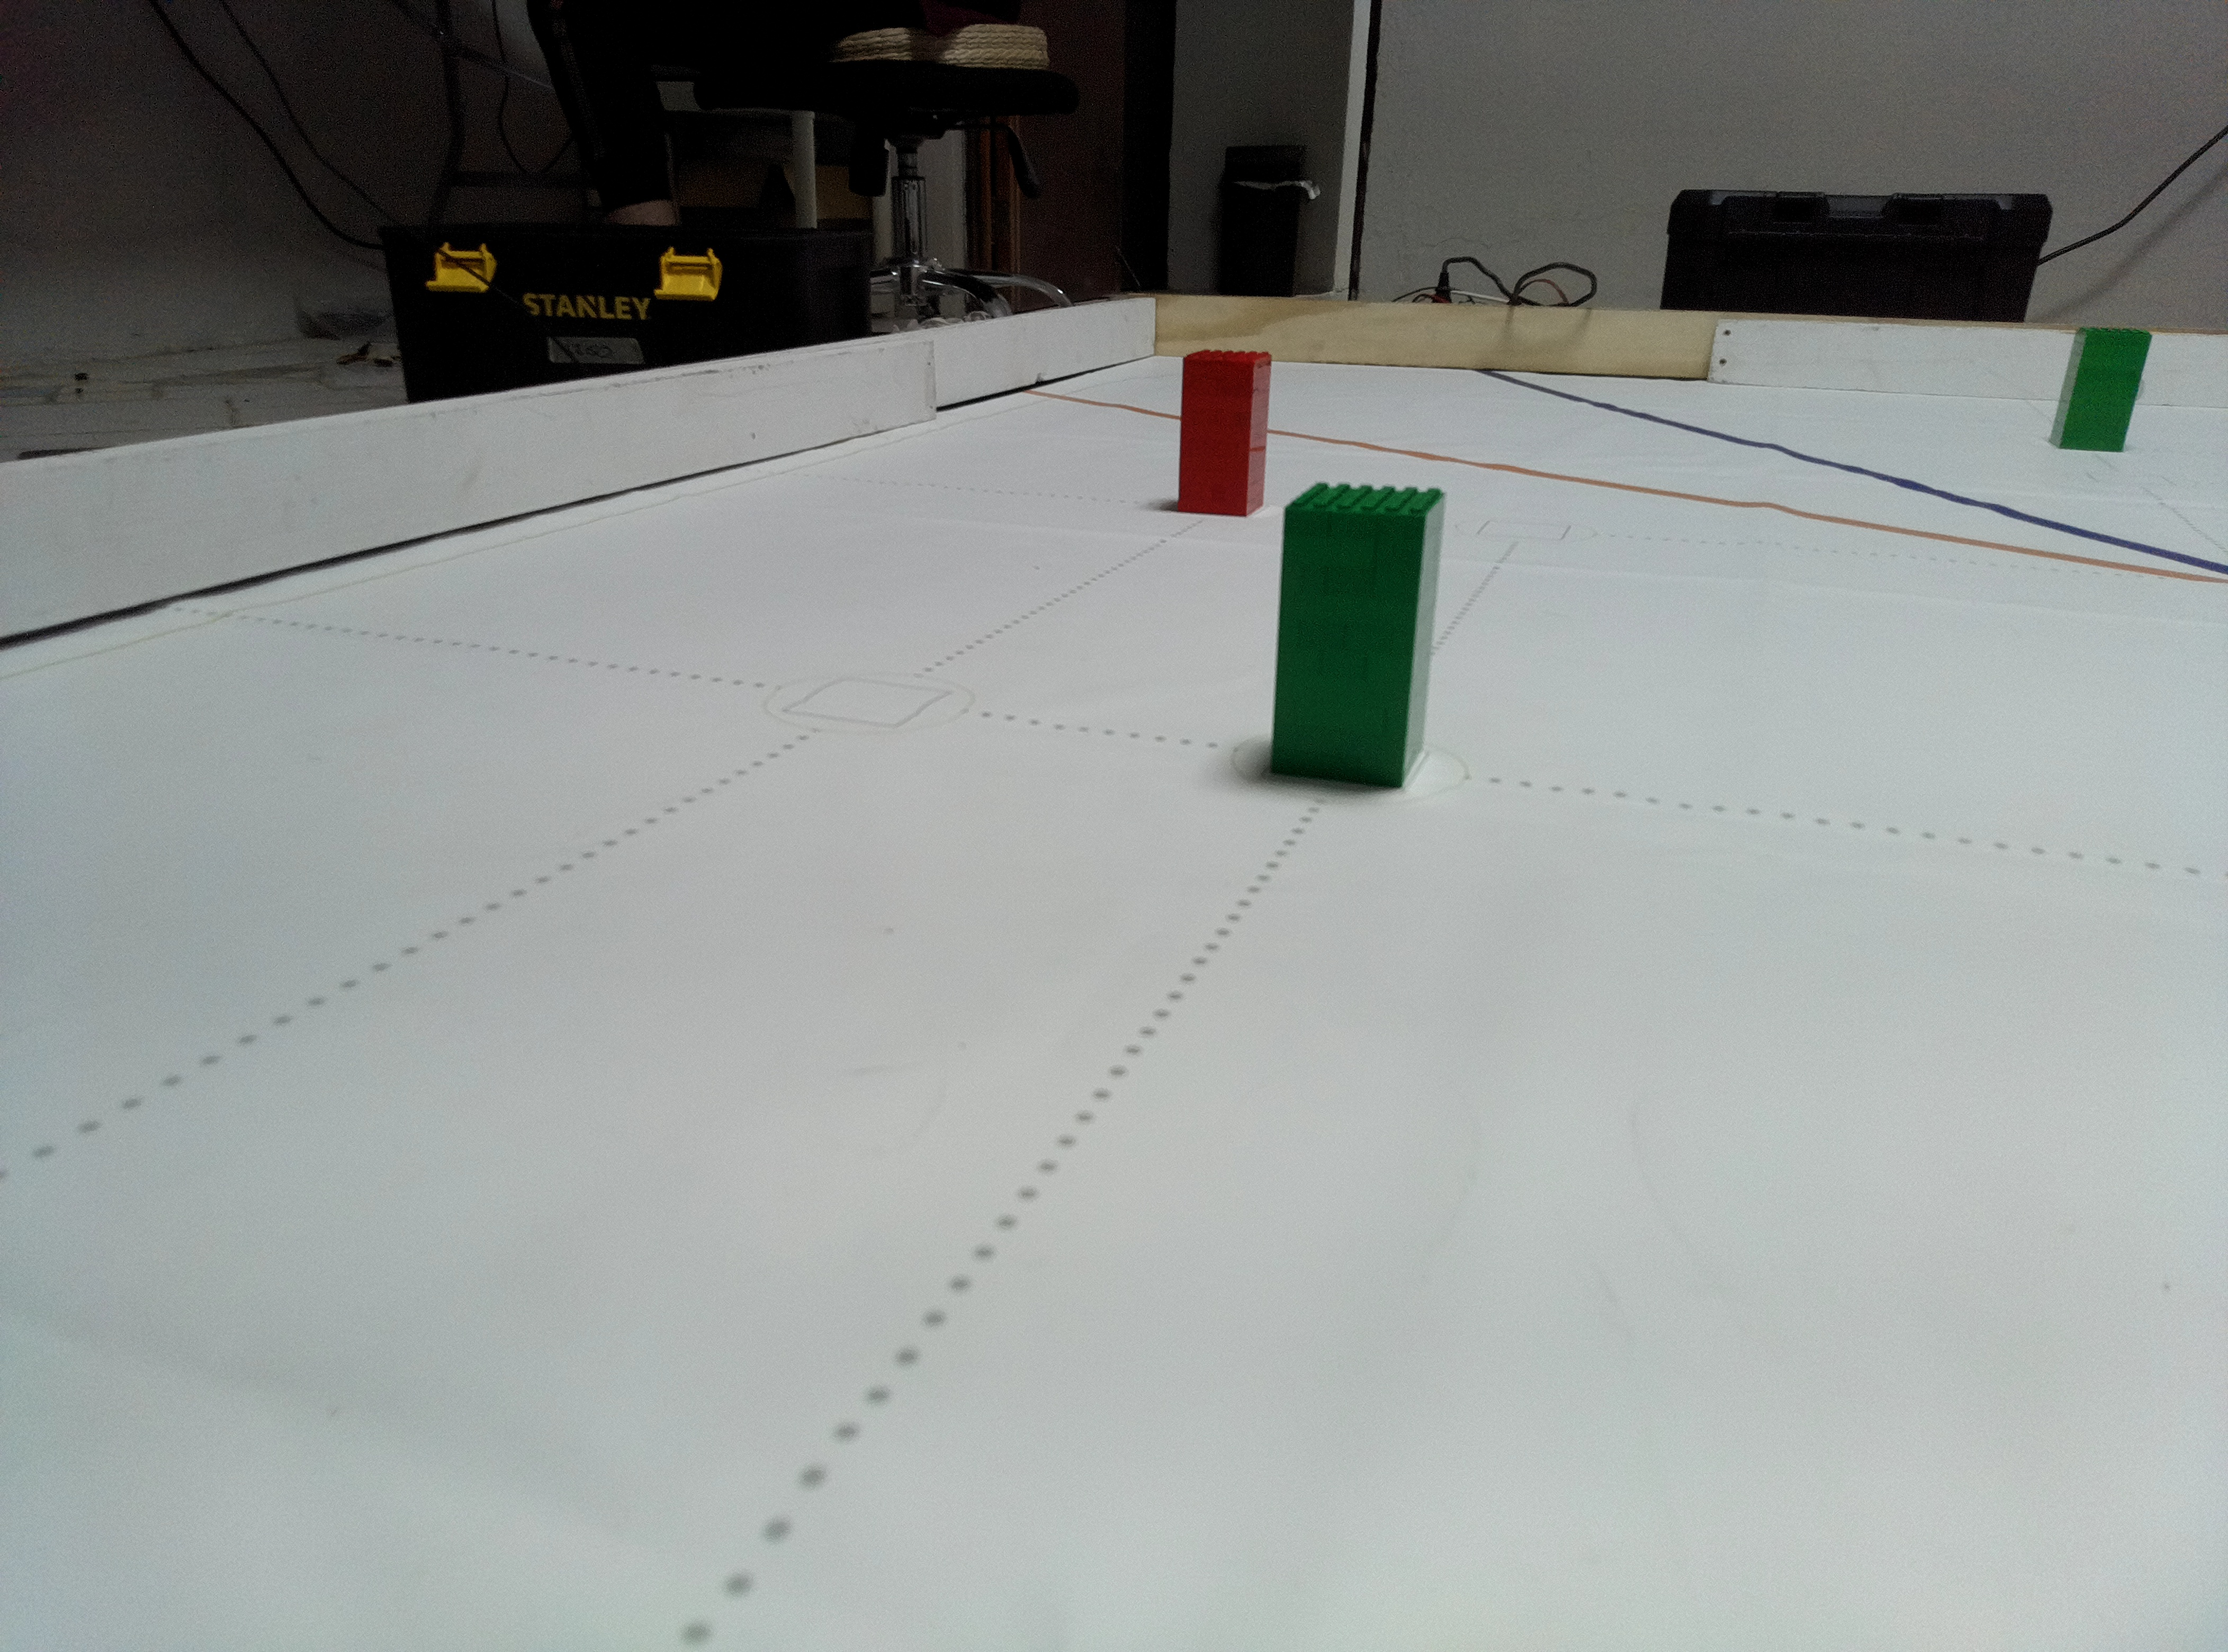greenbox: (1268, 481, 1452, 791), (2046, 328, 2153, 455)
redbox: (1175, 349, 1274, 515)
